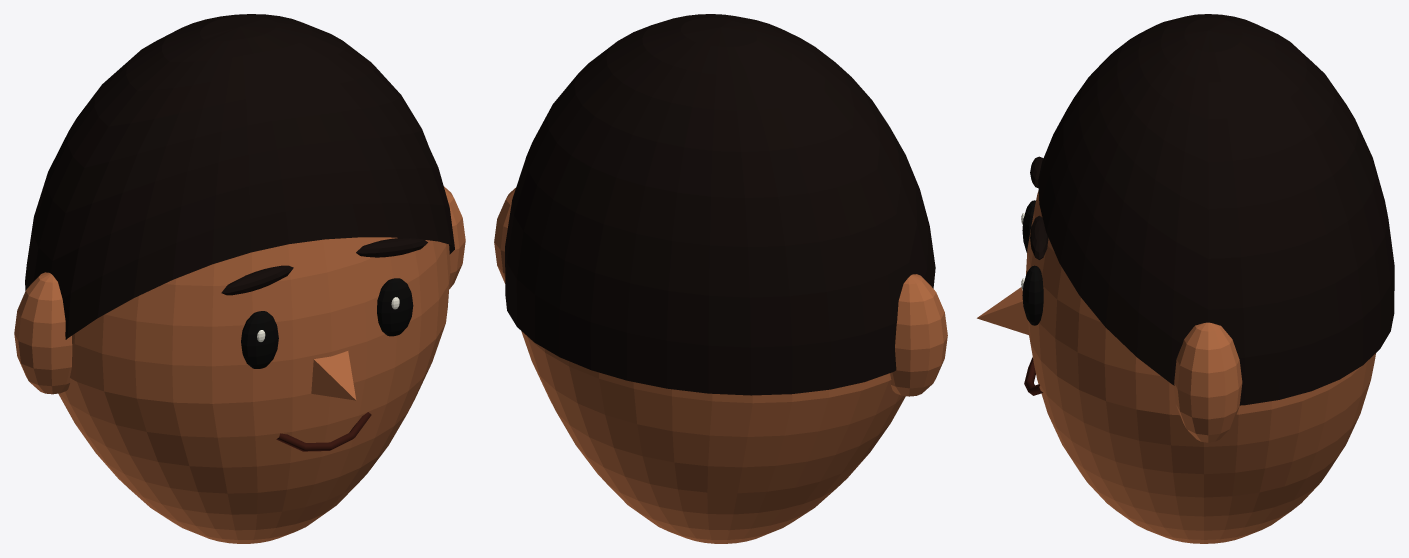
The model's file is cabeca-mii-poligonal-01.obj.
The picture shows the model from 3 angles, left to right: view 1: azimuth 30°, elevation 25°; view 2: azimuth 150°, elevation 25°; view 3: azimuth 270°, elevation 25°; orthographic projection.
Parts seen in each view (by area): view 1: Cabelo_01, Cabeca_01, Orelha_L, Nariz_01, Olho_L, Olho_R, Sobrancelha, Orelha_R, Sobrancelha.001, Boca_01; view 2: Cabelo_01, Cabeca_01, Orelha_L, Orelha_R; view 3: Cabelo_01, Cabeca_01, Orelha_R, Nariz_01, Olho_R, Sobrancelha.001.
Part boxes in pixels (box(x1,y1,x2,y2)): Cabelo_01: box(25, 14, 454, 339); Cabeca_01: box(58, 237, 450, 543); Orelha_L: box(14, 272, 72, 394); Nariz_01: box(311, 351, 356, 400); Olho_L: box(241, 311, 278, 368); Olho_R: box(377, 278, 413, 336); Sobrancelha: box(221, 265, 293, 295); Orelha_R: box(443, 186, 465, 288); Sobrancelha.001: box(356, 237, 427, 257); Boca_01: box(276, 412, 371, 451); Cabelo_01: box(505, 14, 935, 395); Cabeca_01: box(521, 331, 905, 543); Orelha_L: box(890, 274, 947, 396); Orelha_R: box(494, 188, 515, 283); Cabelo_01: box(1038, 14, 1394, 405); Cabeca_01: box(1026, 190, 1375, 543); Orelha_R: box(1173, 322, 1242, 442); Nariz_01: box(977, 287, 1028, 334); Olho_R: box(1022, 265, 1043, 325); Sobrancelha.001: box(1030, 215, 1048, 259).
Bounding box in the file's own units: 1.88 × 2.04 × 1.54.
